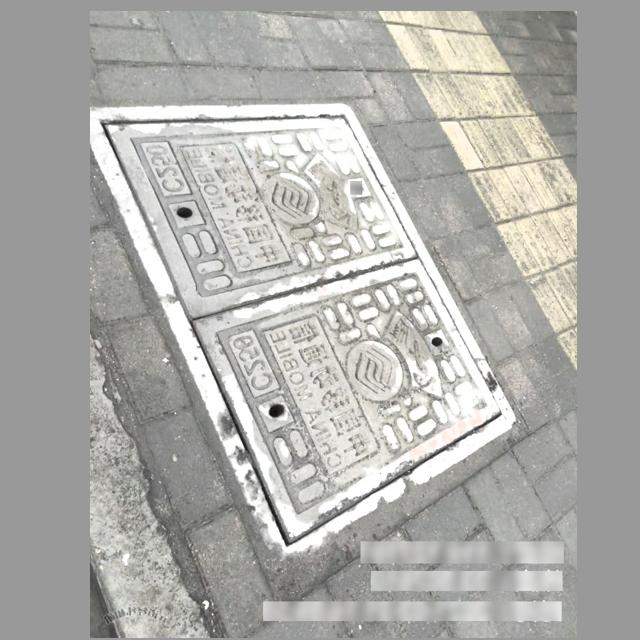good: (90, 102, 515, 557)
